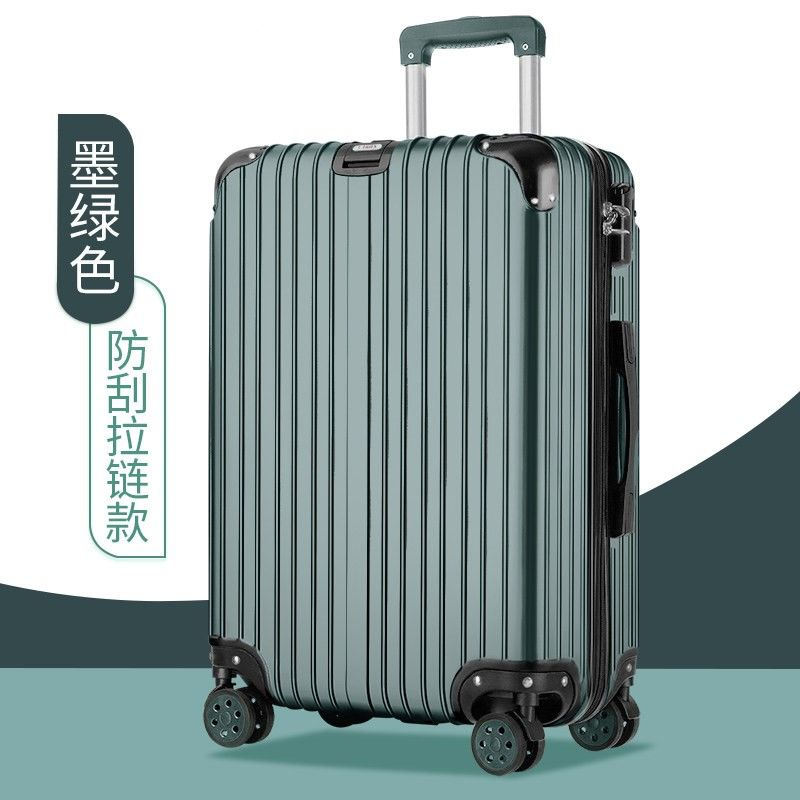box: (208, 135, 639, 724)
handle: (611, 320, 639, 540)
lock: (604, 182, 639, 268)
wheel: (470, 712, 546, 776), (204, 686, 275, 748), (568, 693, 641, 752)
